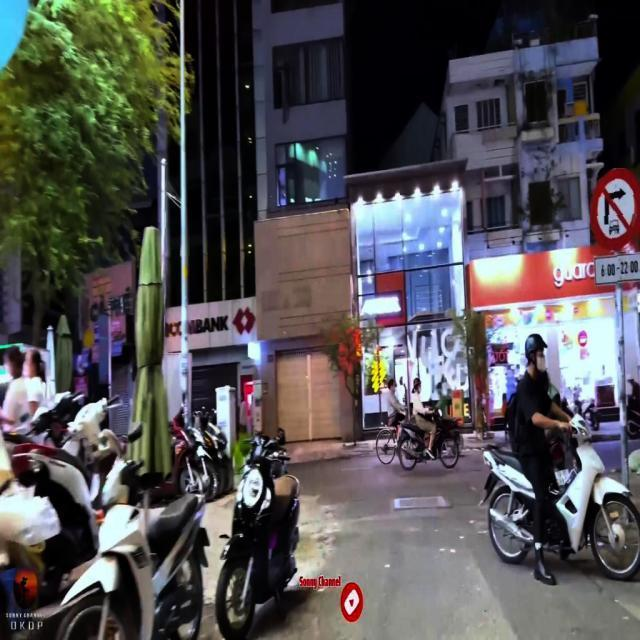123b-cam-re-phai: (589, 167, 640, 247)
